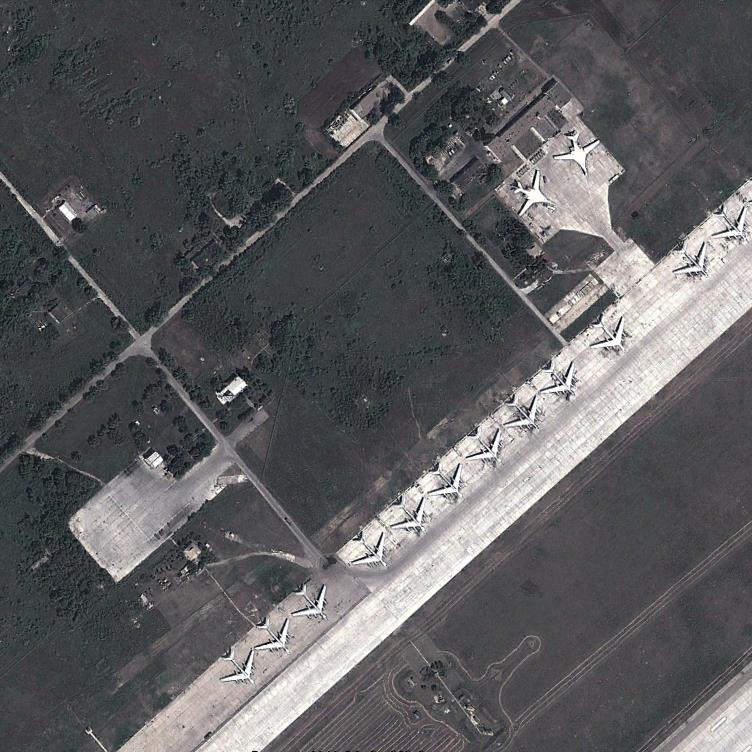A17: (463, 426, 503, 466), (539, 360, 578, 399), (588, 315, 627, 354), (254, 617, 292, 655), (671, 240, 709, 278), (710, 205, 748, 243), (290, 584, 329, 621), (390, 496, 427, 535), (219, 647, 255, 686), (351, 530, 387, 568), (427, 462, 463, 500), (502, 394, 539, 430)
A6: (552, 129, 601, 177), (512, 168, 557, 217)
